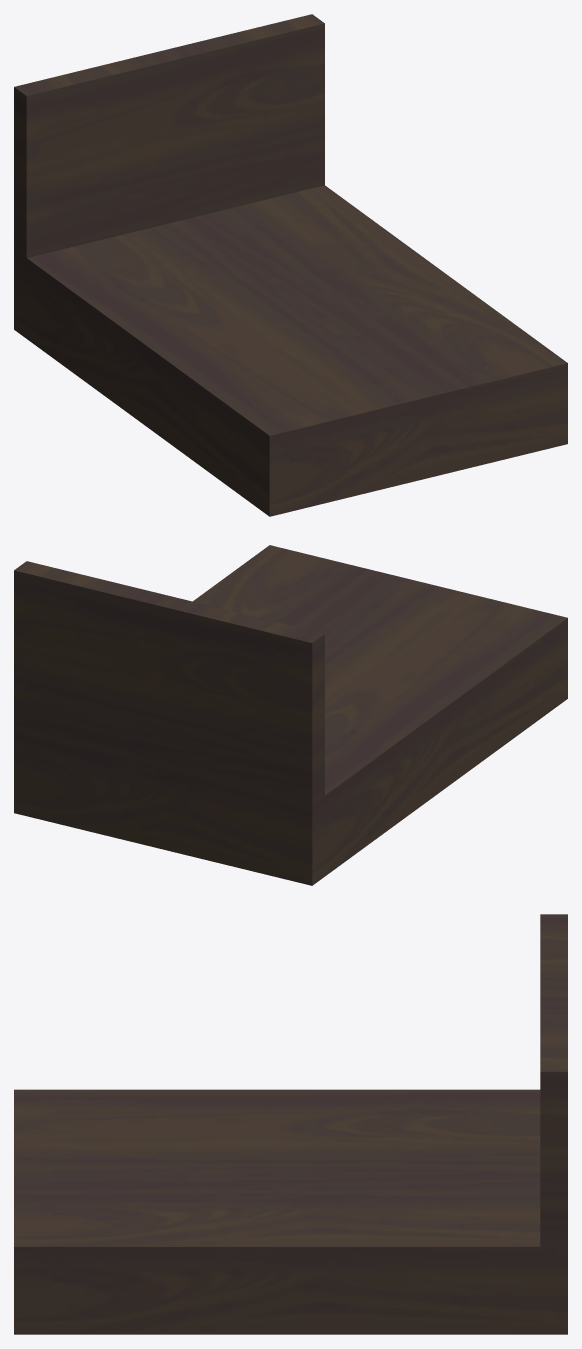
Rendered from bed.fbx.
The picture shows the model from 3 angles, top to bottom: view 1: azimuth 30°, elevation 25°; view 2: azimuth 150°, elevation 25°; view 3: azimuth 270°, elevation 25°; orthographic projection. The views are drawn at different scales.
Visible parts, largest first — view 1: bed.001; view 2: bed.001; view 3: bed.001.
Boxes of the visible parts, box(x1,y1,x2,y2) form: bed.001: box(14, 14, 567, 516); bed.001: box(14, 545, 567, 885); bed.001: box(14, 914, 567, 1334).
Bounding box in the file's own units: 1.5 × 1.16 × 2.22.
Materials: 1 (1 with a texture image).
